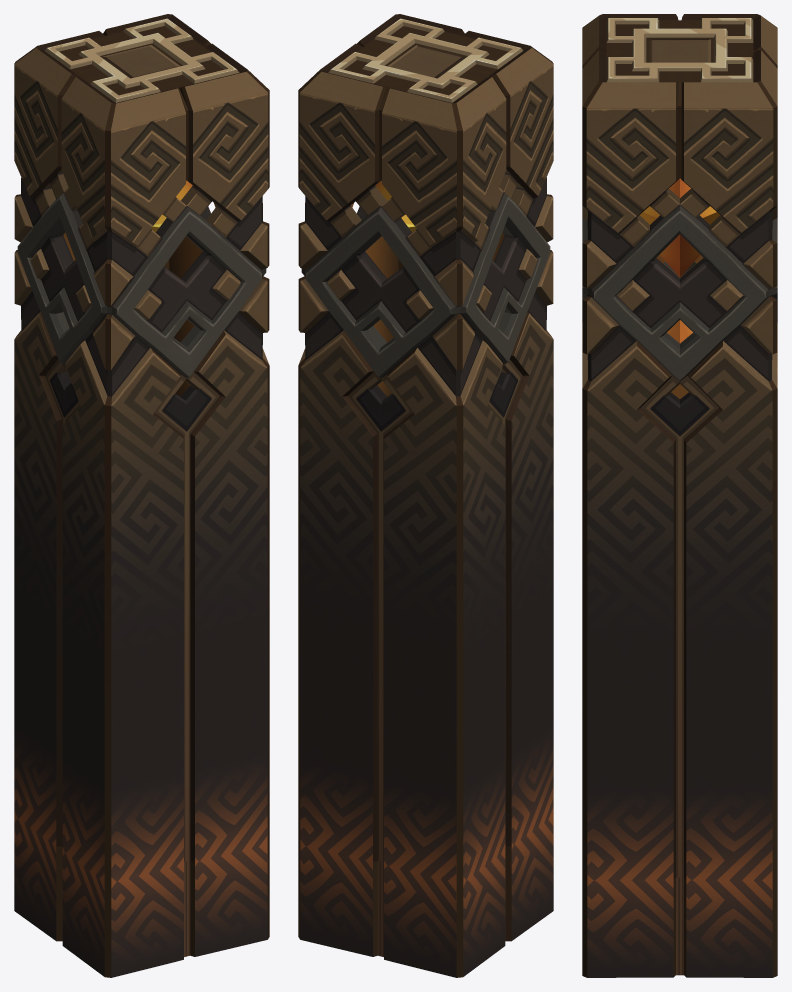
The model's file is Primo Pillar.glb.
The picture shows the model from 3 angles, left to right: view 1: azimuth 30°, elevation 25°; view 2: azimuth 150°, elevation 25°; view 3: azimuth 270°, elevation 25°; orthographic projection. The views are drawn at different scales.
Visible parts, largest first — view 1: SkillObj_PrimoPillar_LOD0; view 2: SkillObj_PrimoPillar_LOD0; view 3: SkillObj_PrimoPillar_LOD0.
Part boxes in pixels (left/top/right/bottom): SkillObj_PrimoPillar_LOD0: left=14, top=14, right=269, bottom=977; SkillObj_PrimoPillar_LOD0: left=298, top=14, right=553, bottom=977; SkillObj_PrimoPillar_LOD0: left=582, top=14, right=777, bottom=977.
Size of the model in its own units: 0.8942 by 4.48 by 0.8942.
Materials: 2 (2 with a texture image).
